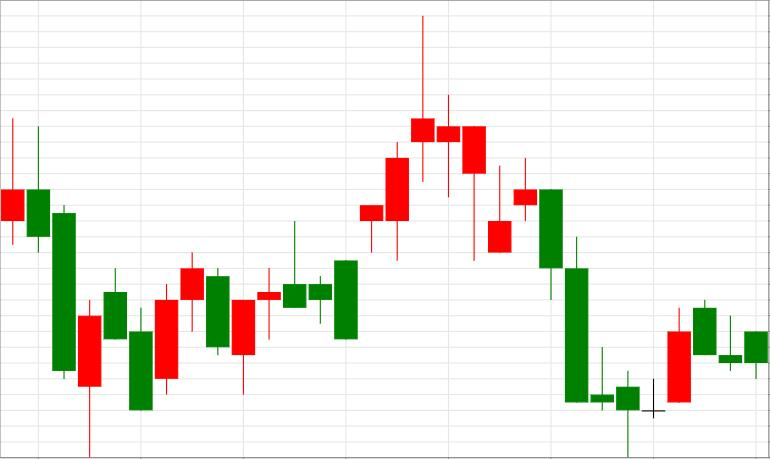morning_star_rise: (462, 126, 691, 457)
